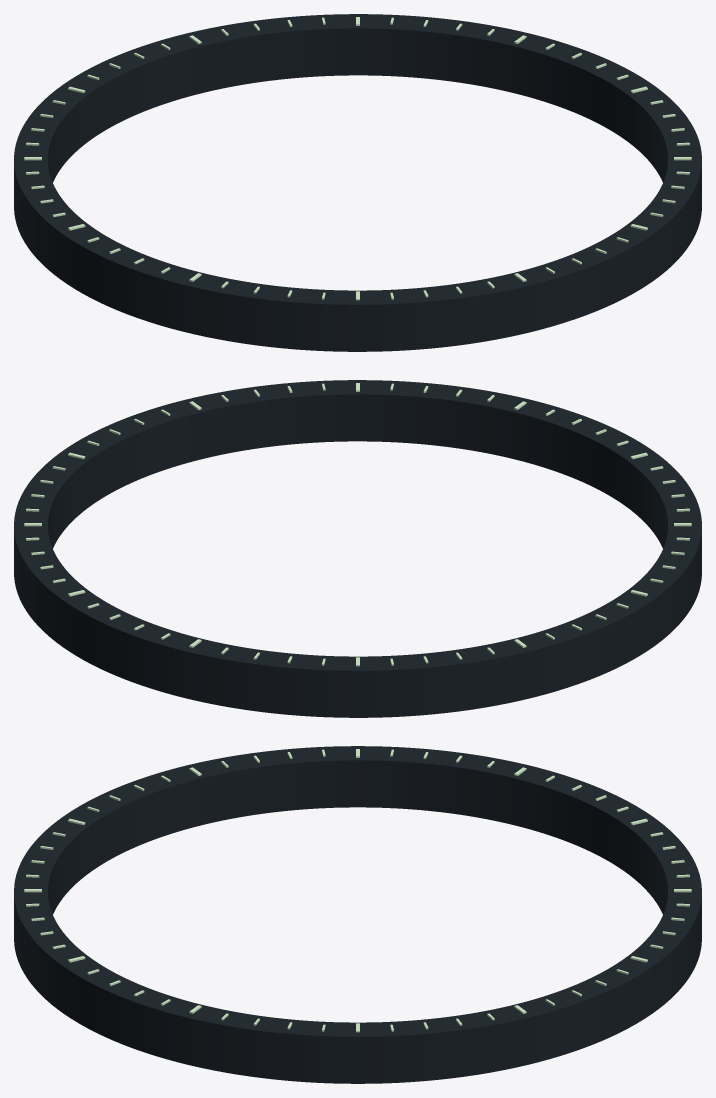
Rendered from chapter-ring.glb.
3 renders of one model, top to bottom at view 1: azimuth 30°, elevation 25°; view 2: azimuth 150°, elevation 25°; view 3: azimuth 270°, elevation 25°, orthographic.
Parts seen in each view (by area): view 1: DD_REF42_CHAPTER_RING; view 2: DD_REF42_CHAPTER_RING; view 3: DD_REF42_CHAPTER_RING.
Part boxes in pixels (left/top/right/bottom): DD_REF42_CHAPTER_RING: left=14, top=14, right=701, bottom=351; DD_REF42_CHAPTER_RING: left=14, top=380, right=701, bottom=717; DD_REF42_CHAPTER_RING: left=14, top=746, right=701, bottom=1083.
Size of the model in its own units: 30.5 by 2.38 by 30.5.
